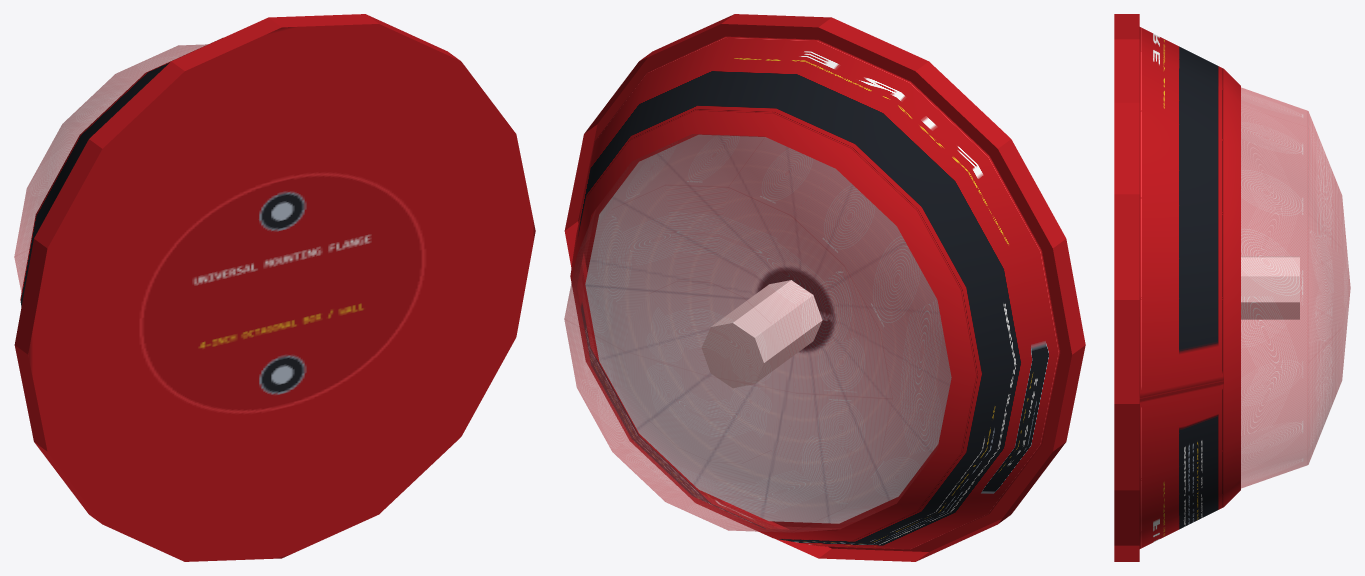
File: SEC_Alarm_Strobe_Light.fbx
The picture shows the model from 3 angles, left to right: view 1: azimuth 30°, elevation 25°; view 2: azimuth 150°, elevation 25°; view 3: azimuth 270°, elevation 25°; orthographic projection. The views are drawn at different scales.
Visible parts, largest first — view 1: Mount_Base, Lens_Cover, Beacon_Housing; view 2: Lens_Cover, Reflector, Beacon_Housing, Mount_Base, LED_Core; view 3: Beacon_Housing, Lens_Cover, Mount_Base, LED_Core.
Boxes of the visible parts, left/top/right/bottom form: Mount_Base: left=14, top=14, right=535, bottom=561; Lens_Cover: left=14, top=44, right=207, bottom=292; Beacon_Housing: left=20, top=38, right=222, bottom=306; Lens_Cover: left=564, top=134, right=951, bottom=532; Reflector: left=585, top=134, right=951, bottom=523; Beacon_Housing: left=570, top=36, right=1060, bottom=549; Mount_Base: left=564, top=14, right=1085, bottom=561; LED_Core: left=701, top=280, right=822, bottom=388; Beacon_Housing: left=1139, top=27, right=1240, bottom=548; Lens_Cover: left=1241, top=87, right=1350, bottom=488; Mount_Base: left=1114, top=14, right=1139, bottom=561; LED_Core: left=1241, top=256, right=1299, bottom=319.
Bounding box in the file's own units: 13 × 13 × 5.6.
3 materials, 2 textured.
